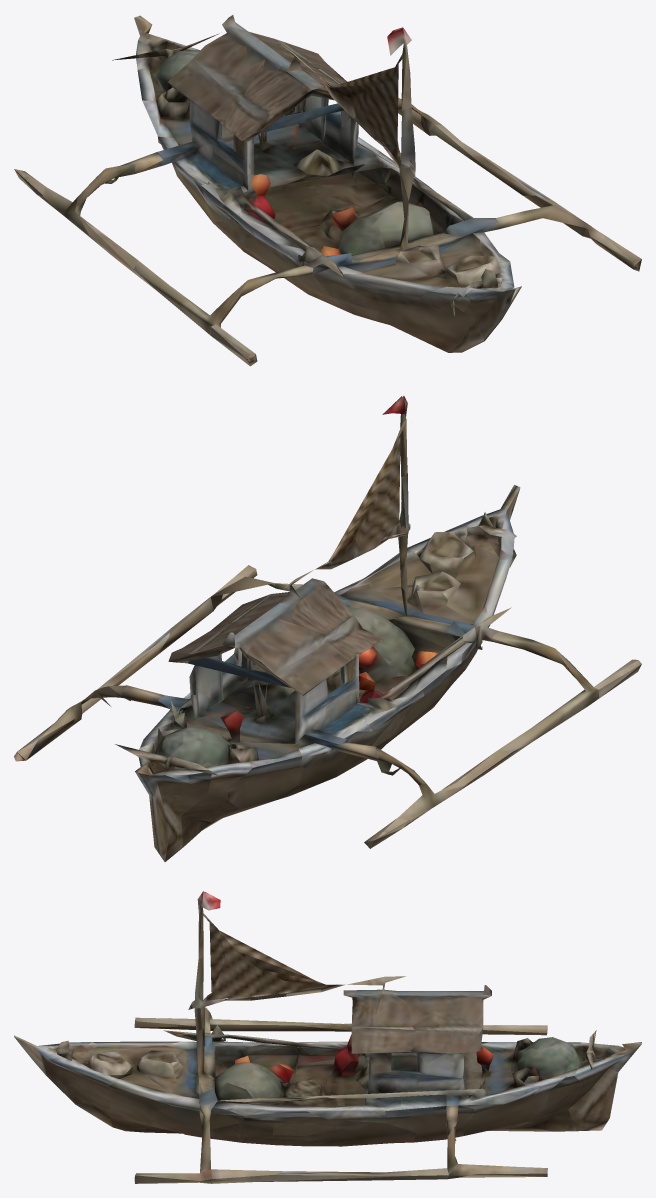
File: perahu_nelayan_lod2.glb
3 renders of one model, top to bottom at view 1: azimuth 30°, elevation 25°; view 2: azimuth 150°, elevation 25°; view 3: azimuth 270°, elevation 25°, orthographic. The views are drawn at different scales.
Parts seen in each view (by area): view 1: tripo_node_2ca7459d-3c0c-4443-a3cc-08055cd2aacd; view 2: tripo_node_2ca7459d-3c0c-4443-a3cc-08055cd2aacd; view 3: tripo_node_2ca7459d-3c0c-4443-a3cc-08055cd2aacd.
Boxes of the visible parts, <box> form: tripo_node_2ca7459d-3c0c-4443-a3cc-08055cd2aacd: <box>14,15,641,366</box>; tripo_node_2ca7459d-3c0c-4443-a3cc-08055cd2aacd: <box>14,396,641,861</box>; tripo_node_2ca7459d-3c0c-4443-a3cc-08055cd2aacd: <box>14,891,641,1183</box>.
Size of the model in its own units: 0.5987 by 0.4263 by 1.
Materials: 1 (1 with a texture image).
